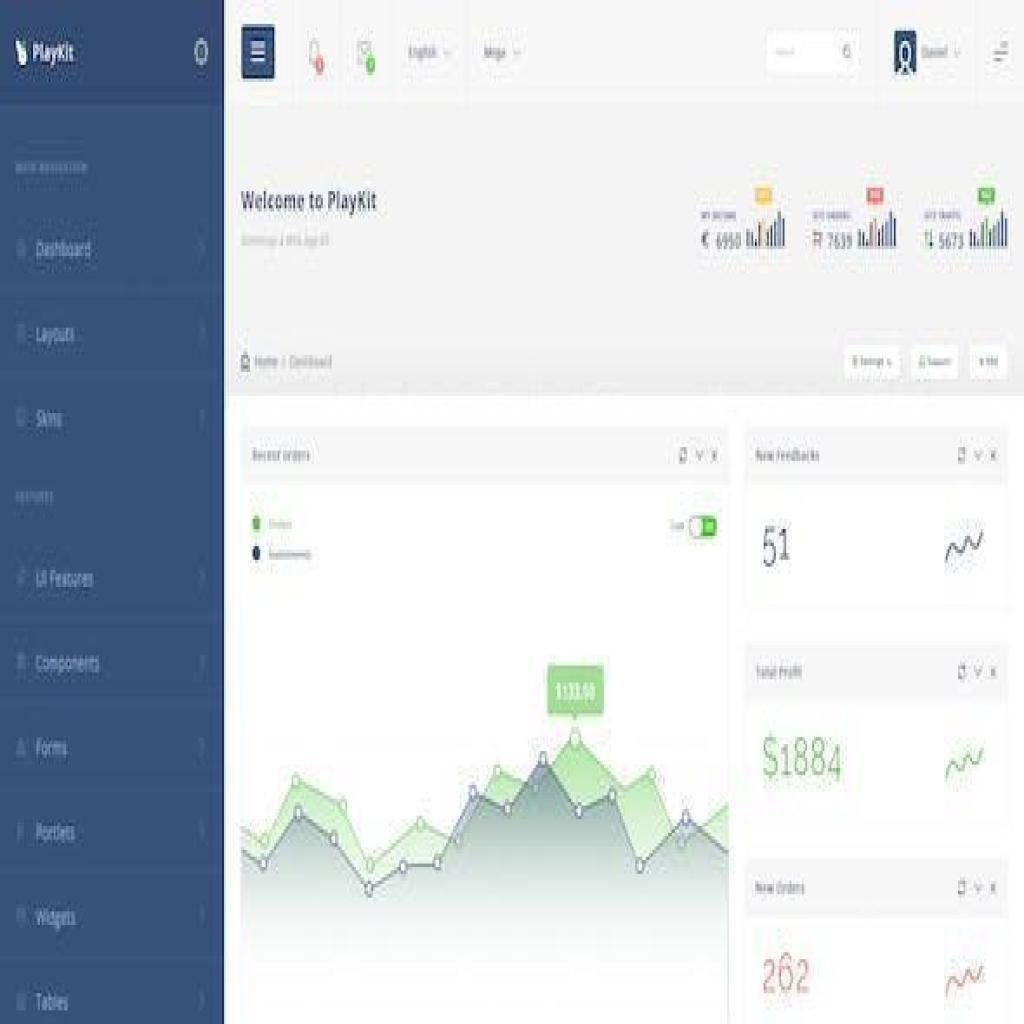button: (837, 341, 904, 379), (911, 342, 962, 382), (970, 342, 1012, 382)
icon: (239, 28, 276, 78), (894, 27, 916, 75), (989, 34, 1012, 75), (354, 38, 378, 75), (306, 31, 324, 75), (194, 34, 208, 72)
input: (764, 28, 862, 78)
switch: (689, 512, 717, 539)
